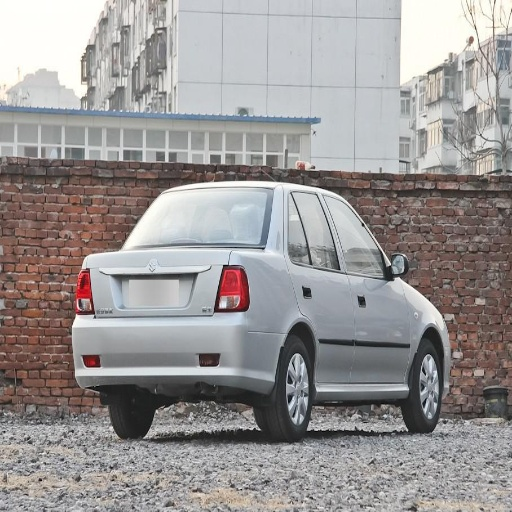back_bumper: (71, 311, 285, 392)
back_right_door: (279, 189, 354, 386)
tailgate: (88, 245, 229, 318)
